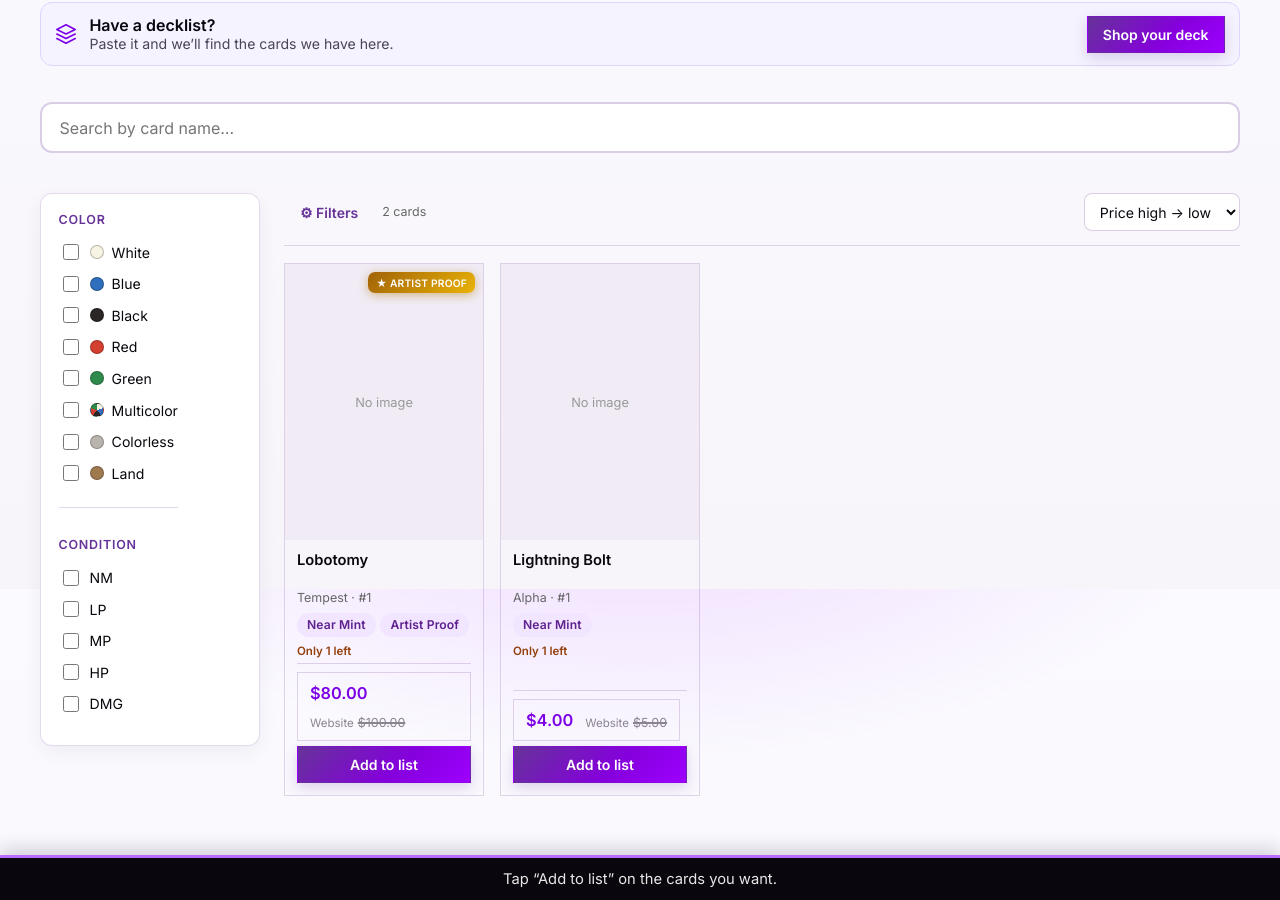
the yard sale page › marks an artist proof on its card, in the list and on the pickup screen
(page scrolled)
Expected: the text "Artist Proof" is shown, [380,613,469,637]
Click the button "Add to list" below "$100.00".
click(384, 764)  # box [297,746,471,783]
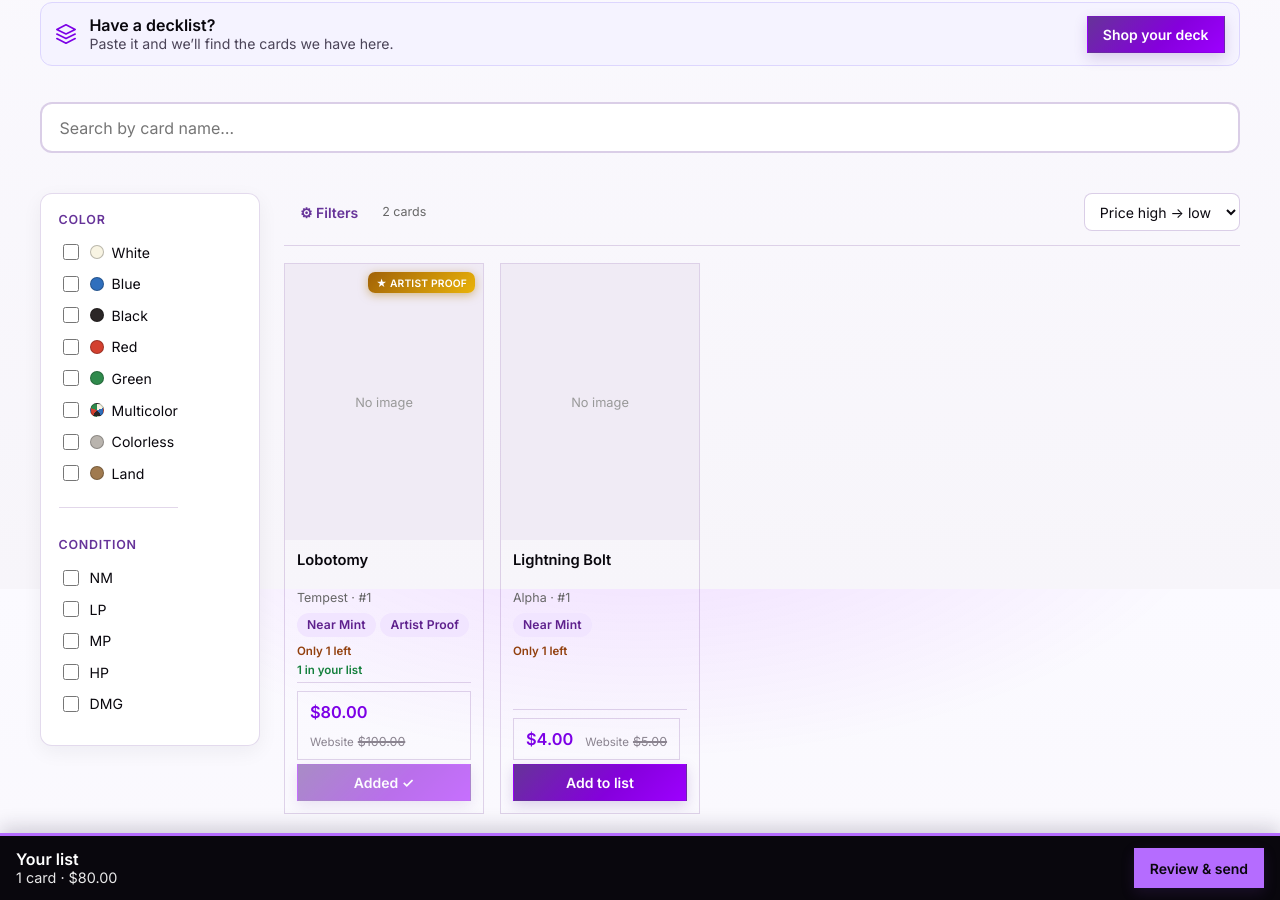
Click the button "Review & send".
click(1199, 868)  # box [1134,848,1264,888]
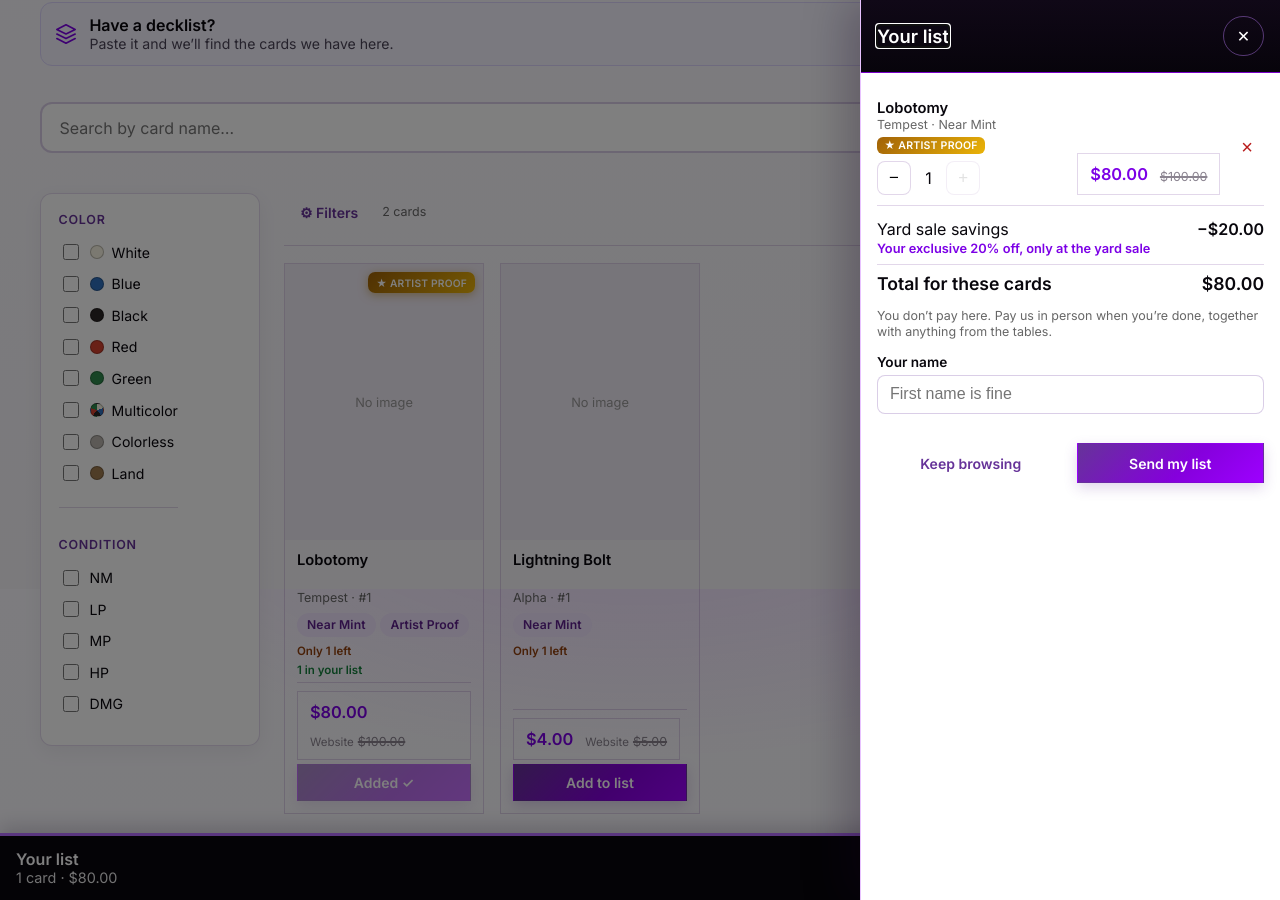
Type "Ann" into the field labelled "Your name".
click(1070, 394); type("Ann")  # box [877,375,1264,414]
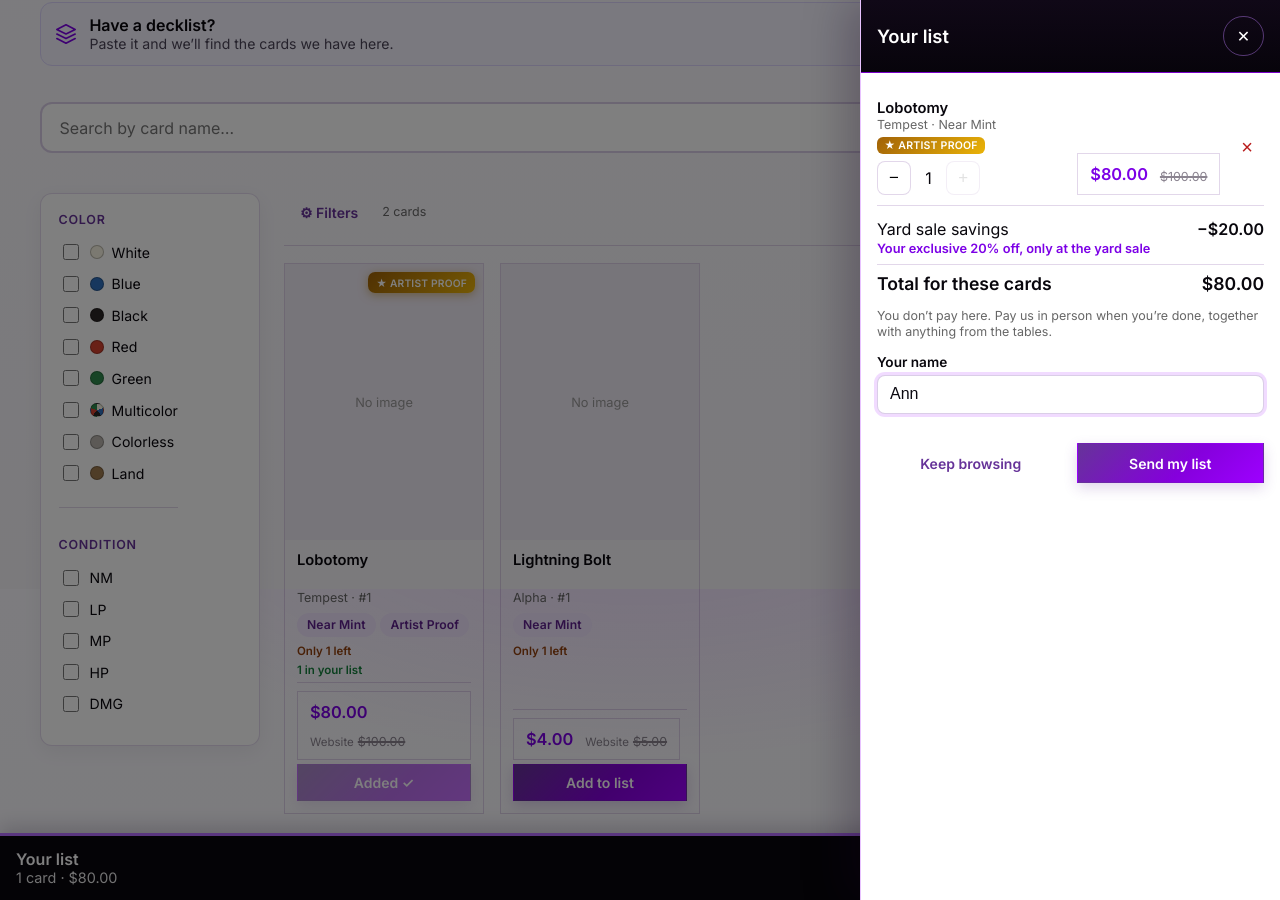
Click the button "Send my list".
click(1170, 463)  # box [1076,443,1264,483]
(page scrolled)
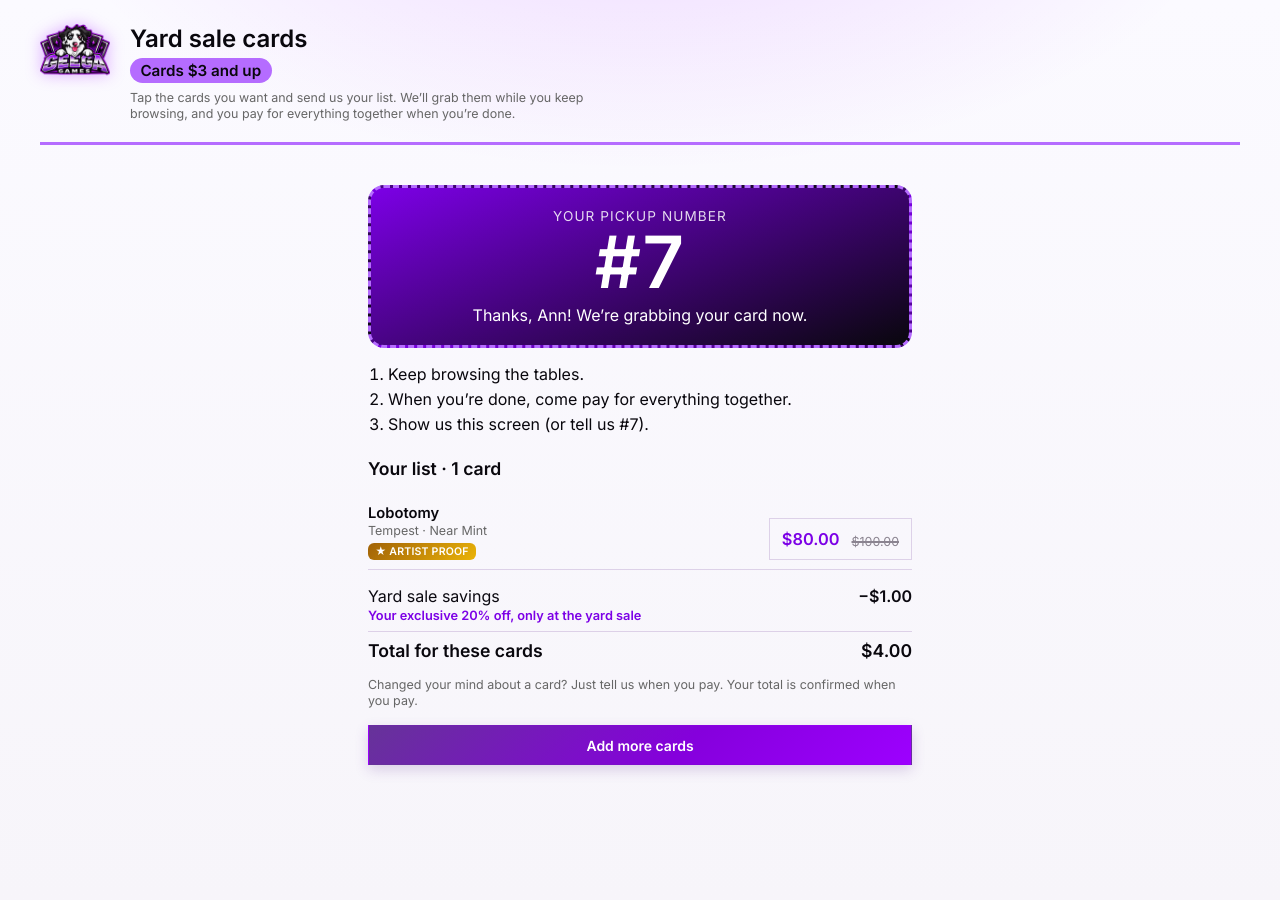
Now the text "#7" is shown, box [595,218,685,305]
